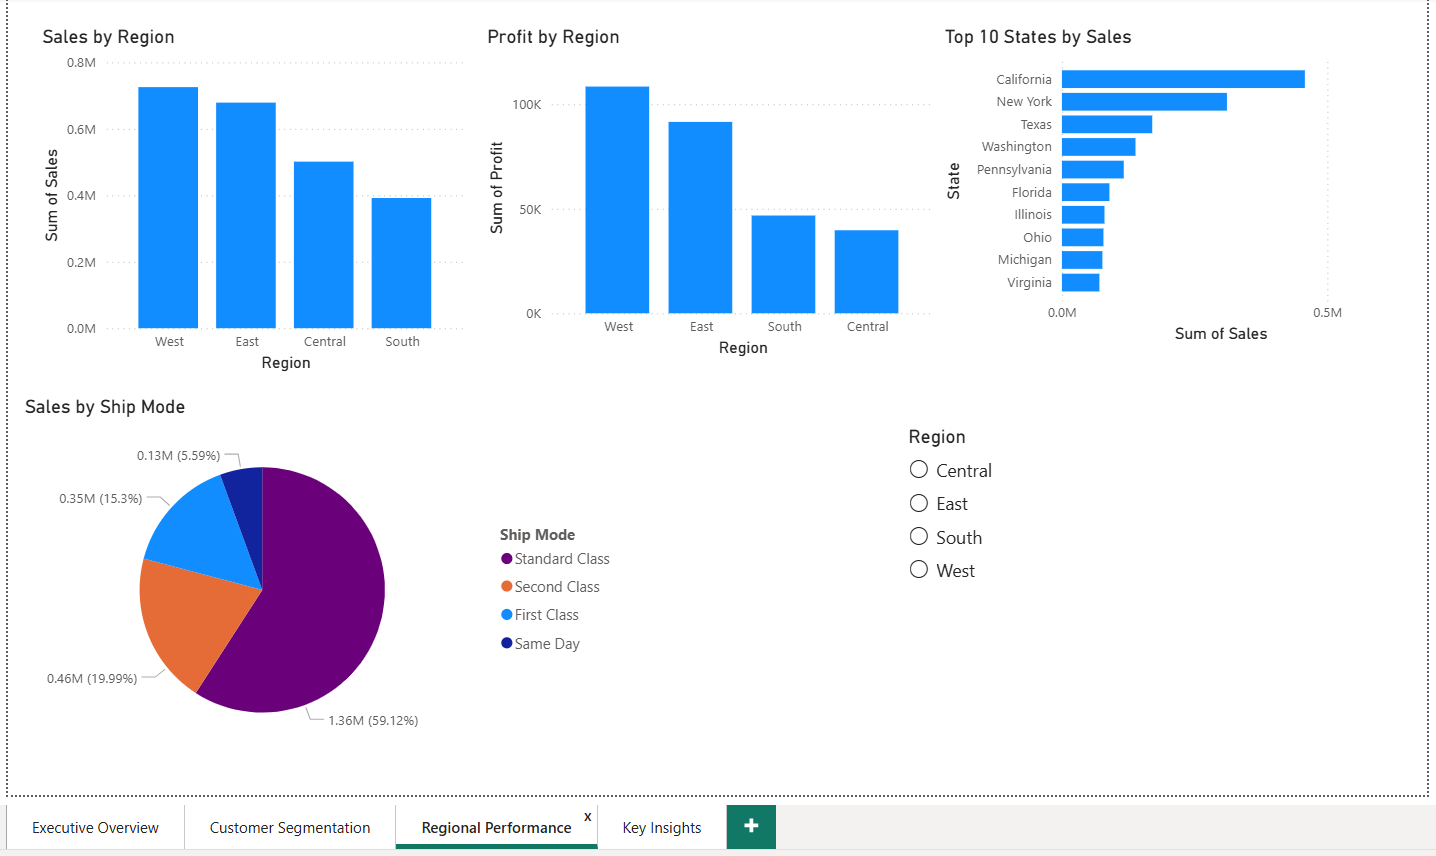

The dashboard page shown, as its layout file describes it:
{"tool":"powerbi","page":{"name":"Regional Performance","canvas":[1280,720],"ordinal":2},"visuals":[{"type":"clusteredColumnChart","title":"Sales by Region","fields":{"Category":["superstore.Region"],"Y":["Sum(superstore.Sales)"]},"box":[25.7,25.7,391.3,316.7],"z":0},{"type":"clusteredColumnChart","title":"Profit by Region","fields":{"Category":["superstore.Region"],"Y":["Sum(superstore.Profit)"]},"box":[426.8,25.7,413.3,303.3],"z":1},{"type":"barChart","title":"Top 10 States by Sales","fields":{"Category":["superstore.State"],"Y":["Sum(superstore.Sales)"]},"box":[840.1,25.7,417,291],"z":2},{"type":"pieChart","title":"Sales by Ship Mode","fields":{"Category":["superstore.Ship Mode"],"Y":["Sum(superstore.Sales)"]},"box":[9.8,359.5,546.6,331.4],"z":3},{"type":"listSlicer","fields":{"Values":["superstore.Region"]},"box":[807.1,386.4,212.8,174.9],"z":4}]}

Visuals, with their boxes on the page's 1280x720 design canvas (x1, y1, x2, y2). These are canvas units, not pixel positions in the 1436x856 screenshot, which may show the page scaled, cropped or inside an application window:
"Sales by Region" clusteredColumnChart: bbox(26, 26, 417, 342)
"Profit by Region" clusteredColumnChart: bbox(427, 26, 840, 329)
"Top 10 States by Sales" barChart: bbox(840, 26, 1257, 317)
"Sales by Ship Mode" pieChart: bbox(10, 360, 556, 691)
listSlicer - superstore.Region: bbox(807, 386, 1020, 561)
